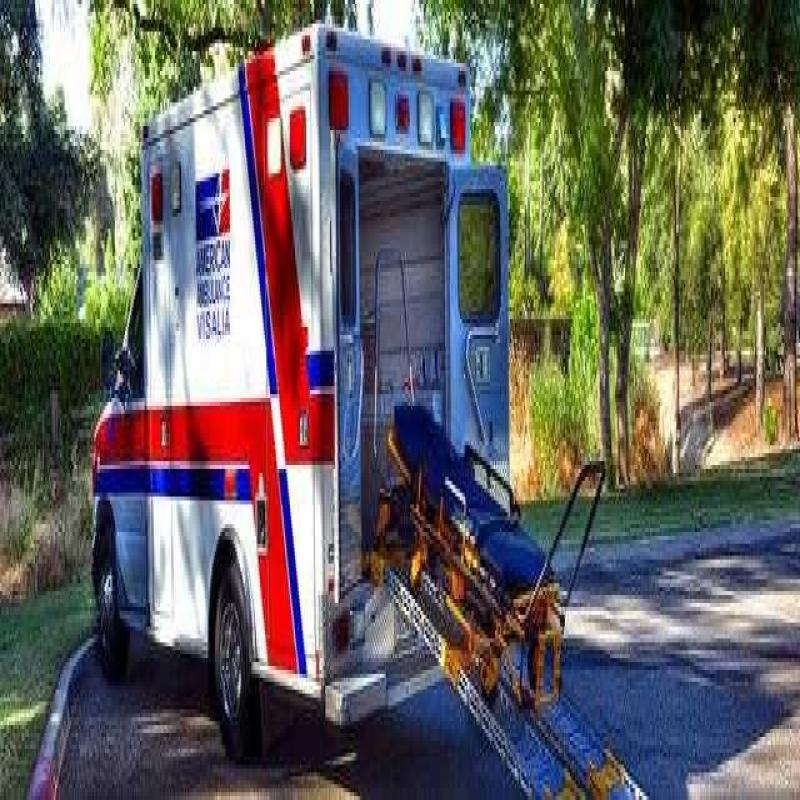AmbulanceSiren: (324, 45, 471, 163)
